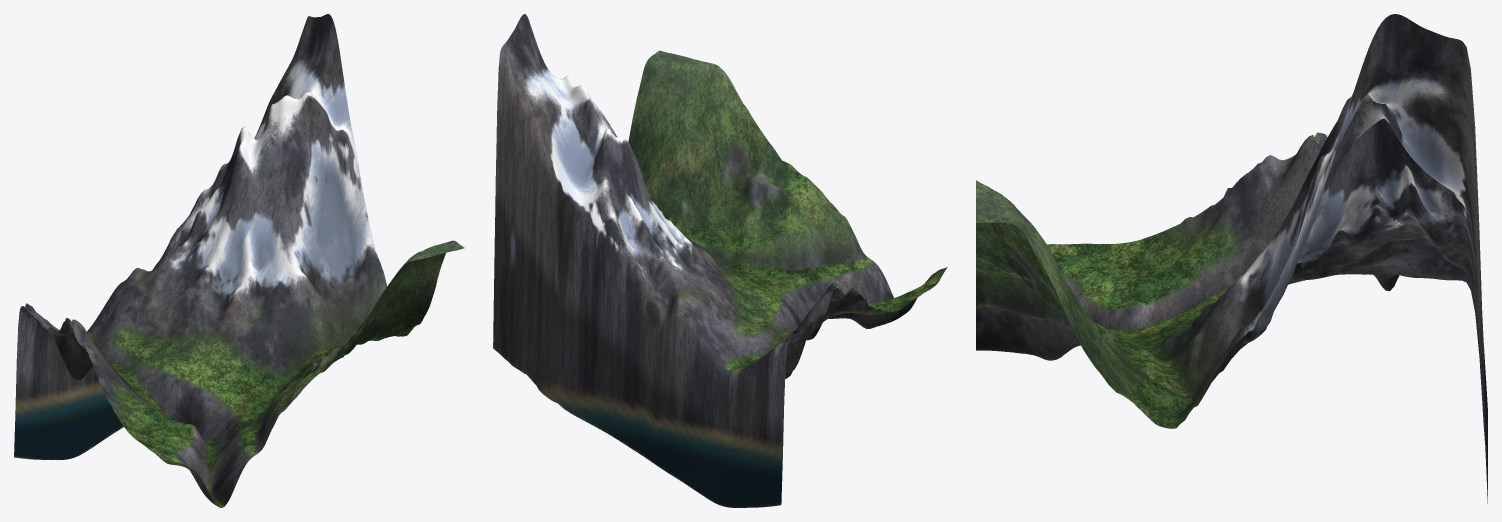
3 views of the same model, side by side, from view 1: azimuth 30°, elevation 25°; view 2: azimuth 150°, elevation 25°; view 3: azimuth 270°, elevation 25° (orthographic). The views are drawn at different scales.
Visible parts, largest first — view 1: t064_192; view 2: t064_192; view 3: t064_192.
Boxes of the visible parts, x1,y1,x2,y2 form: t064_192: (14,14,464,507); t064_192: (493,14,947,507); t064_192: (976,14,1487,503).
Size of the model in its own units: 64 by 87.72 by 64.
1 material, 1 textured.
